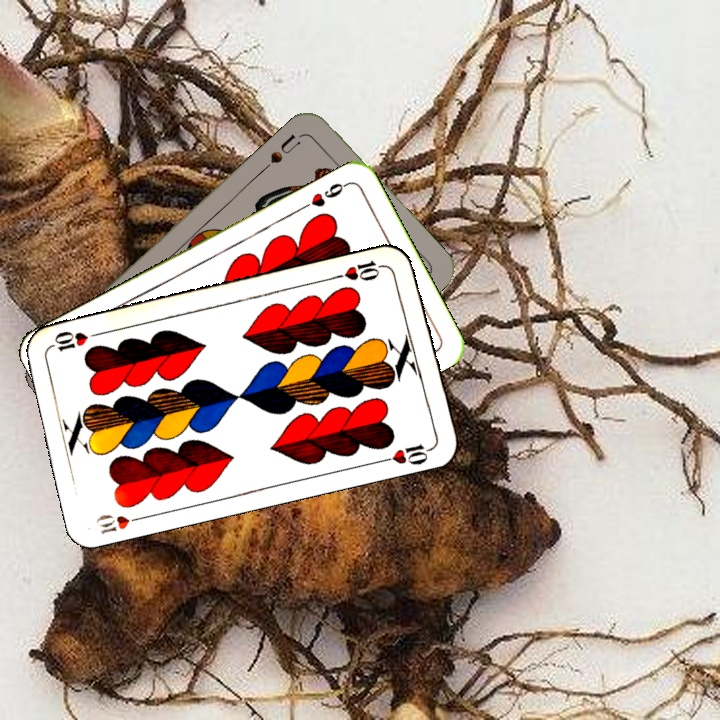H10: (331, 256, 390, 284), (91, 510, 150, 537)
H9: (297, 178, 351, 213)
SU: (258, 129, 306, 174)
